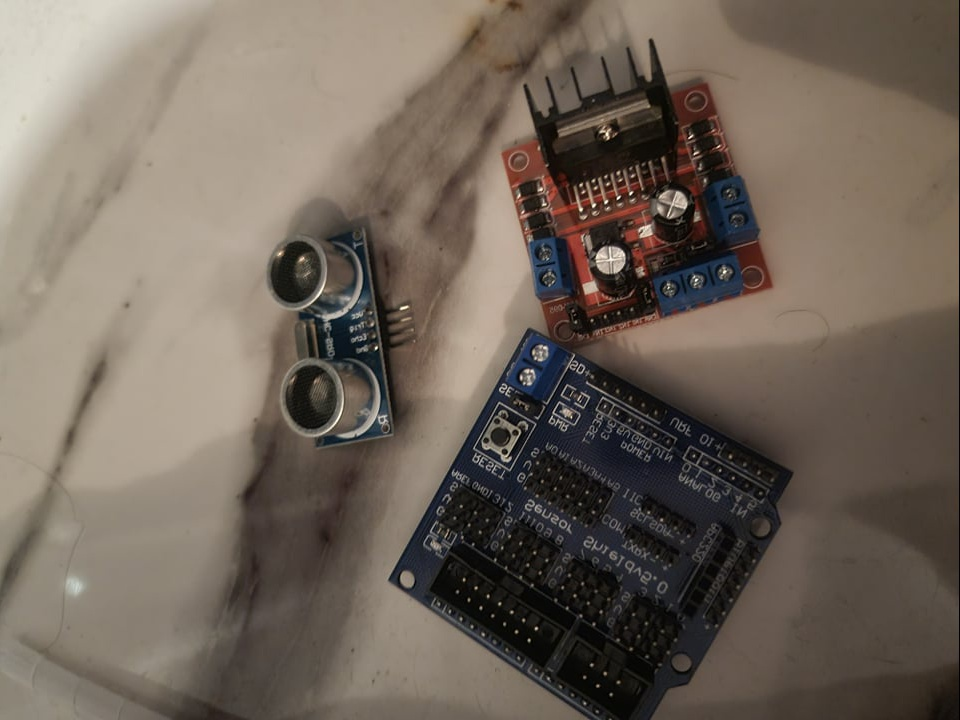5V EXPANSION: (390, 326, 796, 718)
MOTOR: (501, 41, 775, 348)
SENSOR: (265, 222, 410, 449)
